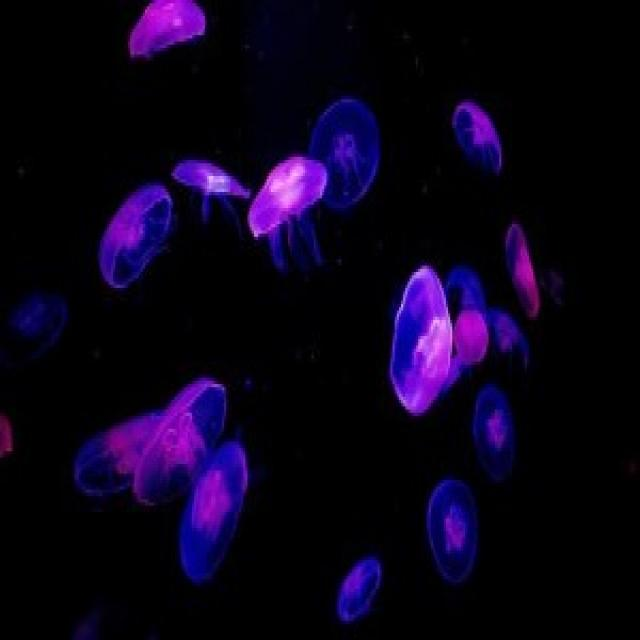Jellyfish: (382, 270, 463, 431), (154, 366, 238, 501), (185, 429, 249, 602), (93, 181, 178, 310), (312, 96, 384, 223), (248, 152, 335, 252), (56, 427, 150, 498), (426, 478, 479, 590), (126, 0, 209, 70), (441, 100, 511, 180), (496, 222, 548, 321), (475, 383, 520, 495), (169, 158, 246, 214), (335, 553, 385, 635), (454, 294, 484, 381)
